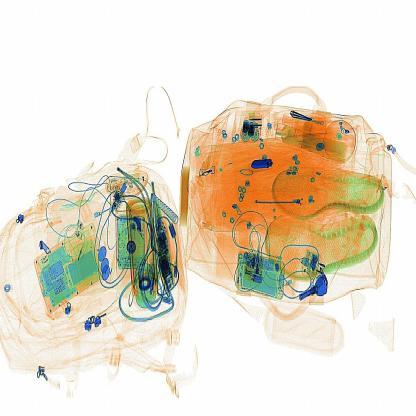wrench: (242, 153, 278, 173)
